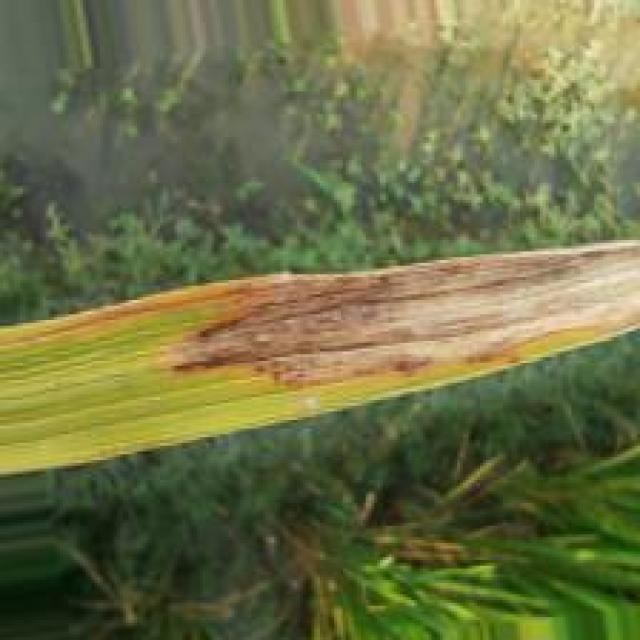Leaf_Scald: (3, 241, 640, 391)
